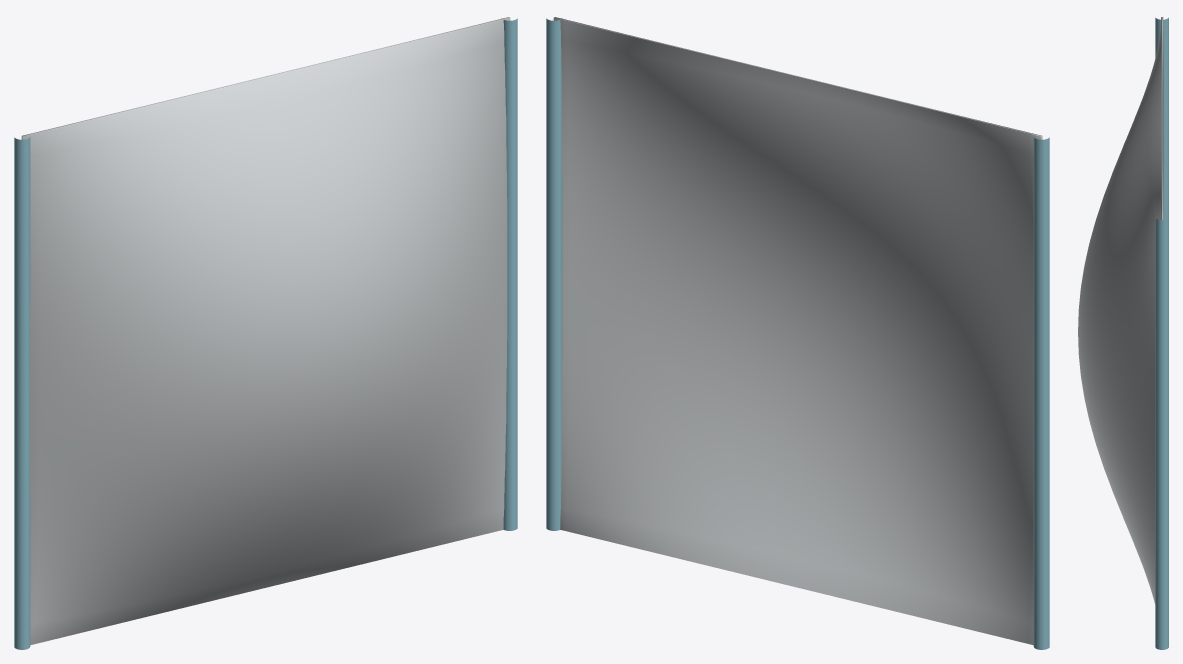
3 renders of one model, left to right at view 1: azimuth 30°, elevation 25°; view 2: azimuth 150°, elevation 25°; view 3: azimuth 270°, elevation 25°, orthographic. The views are drawn at different scales.
Visible parts, largest first — view 1: supported-film, film-support--0.8, film-support-0.8; view 2: supported-film, film-support--0.8, film-support-0.8; view 3: supported-film, film-support-0.8, film-support--0.8.
Boxes of the visible parts, left/top/right/bottom form: supported-film: left=21, top=17, right=510, bottom=645; film-support--0.8: left=14, top=137, right=30, bottom=649; film-support-0.8: left=501, top=18, right=517, bottom=530; supported-film: left=553, top=17, right=1042, bottom=645; film-support--0.8: left=1033, top=137, right=1049, bottom=649; film-support-0.8: left=546, top=18, right=562, bottom=530; supported-film: left=1078, top=17, right=1163, bottom=604; film-support-0.8: left=1155, top=218, right=1168, bottom=649; film-support--0.8: left=1155, top=17, right=1168, bottom=219.
Bounding box in the file's own units: 1.65 × 1.6 × 0.307.
